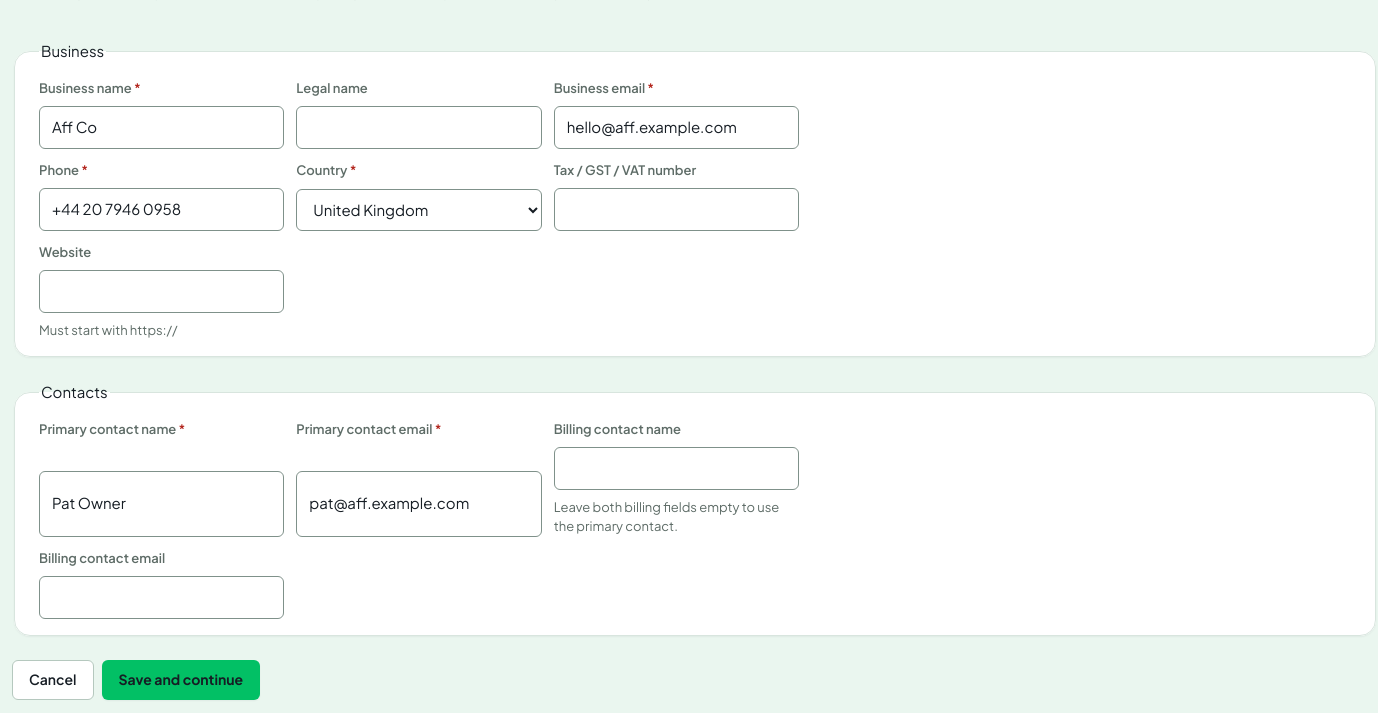
Test: the upgrade page › shows the server's refusal and stays on the step
(page scrolled)
Click the button "Save and continue".
click(181, 680)  # box x1=102 y1=660 x2=260 y2=700
(page scrolled)
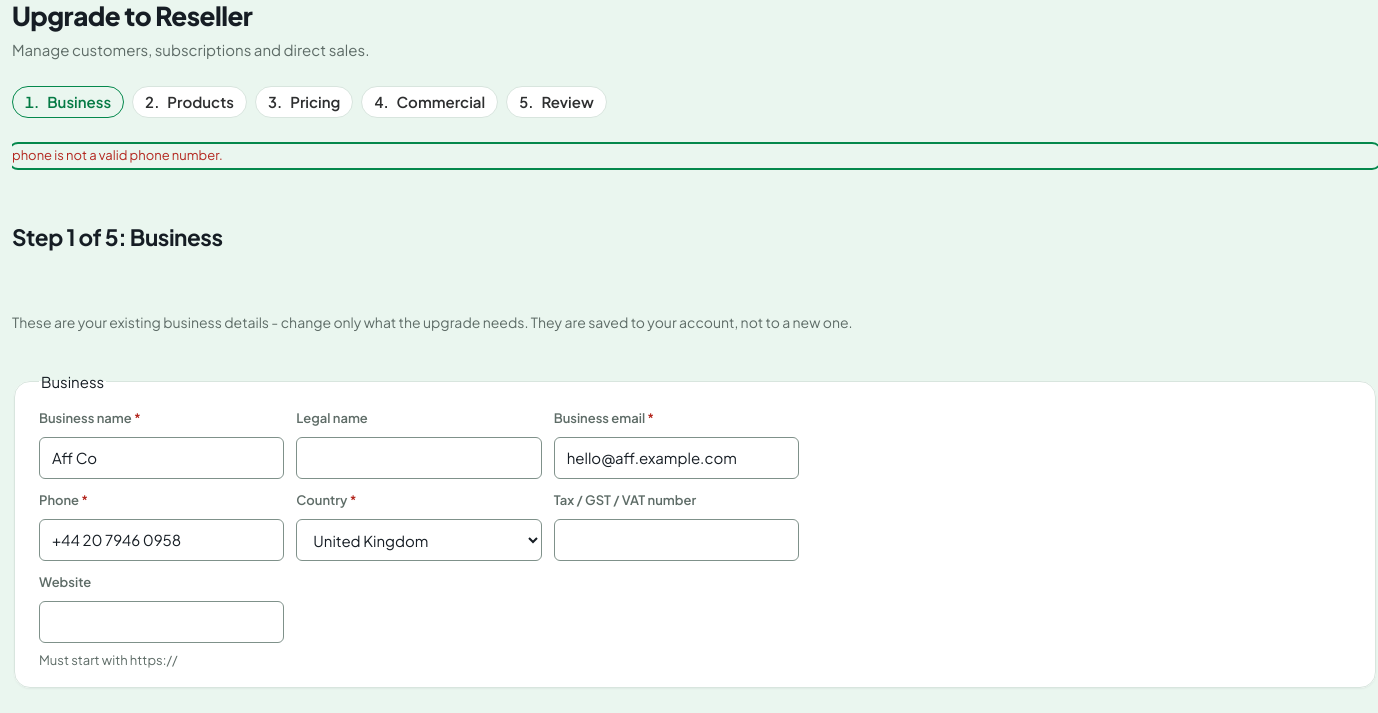
Expected: the heading "Step 1 of 5: Business" is shown, x1=12 y1=223 x2=223 y2=251
Now the text "phone is not a valid phone number." is shown, box x1=12 y1=147 x2=223 y2=163
